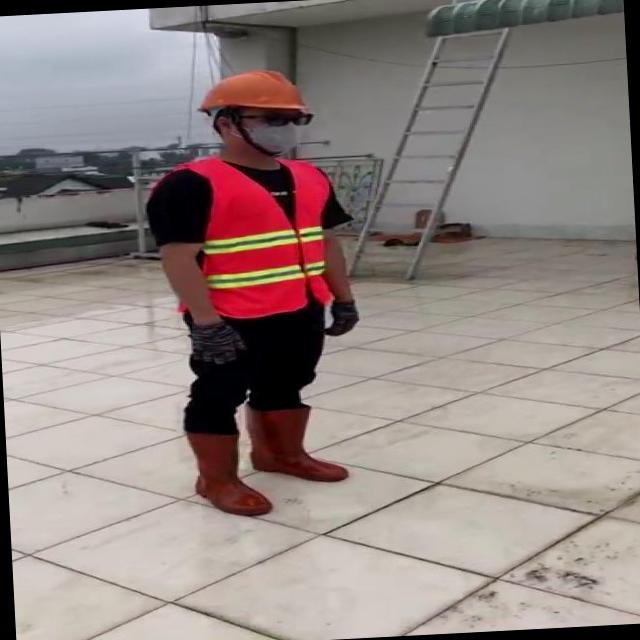boots: (244, 403, 350, 488), (187, 428, 273, 520)
helmet: (194, 66, 317, 116)
vest: (158, 155, 338, 320)
